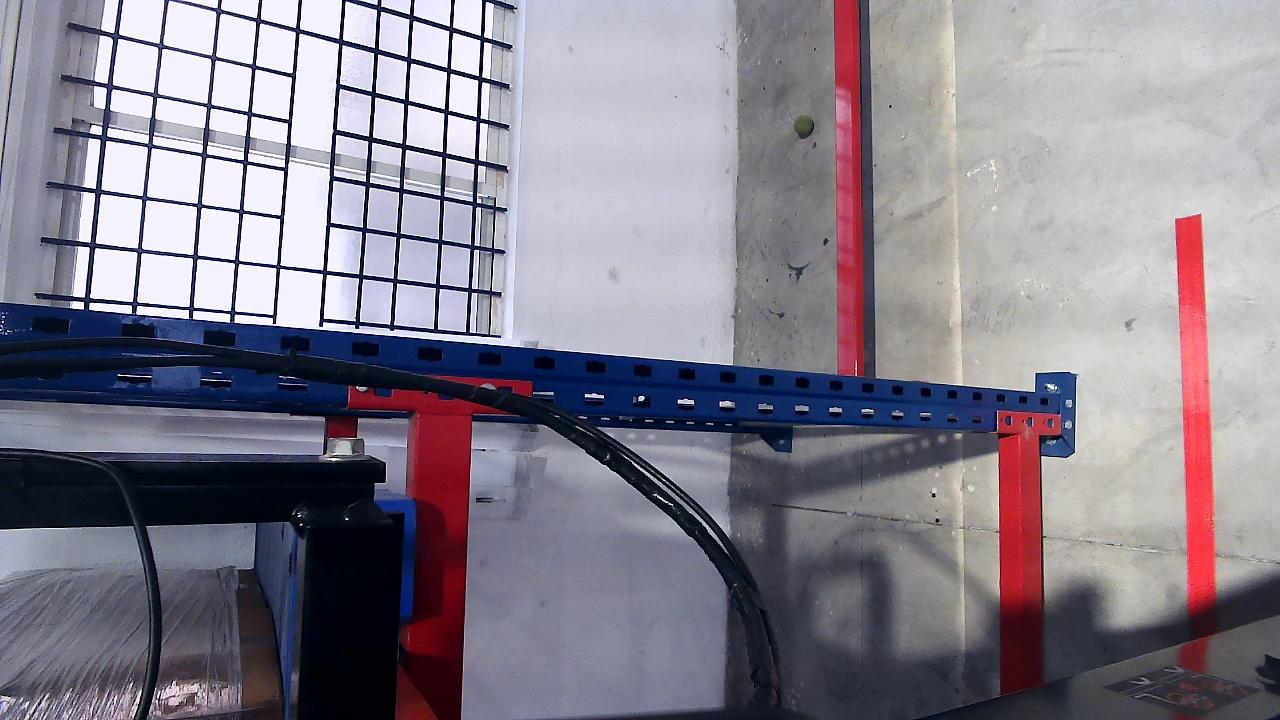h_rack: (409, 412, 473, 719), (840, 2, 869, 375), (999, 433, 1036, 693)
red_line: (1174, 213, 1216, 607)
